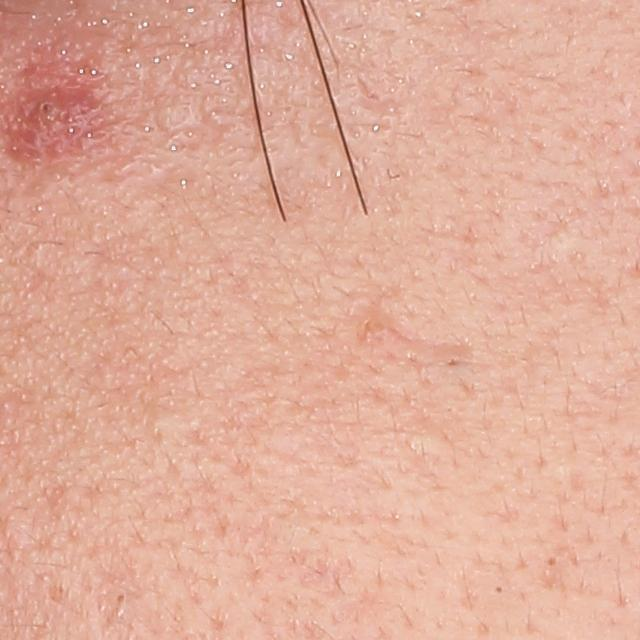comedo: (140, 403, 184, 440), (537, 551, 563, 576), (114, 590, 128, 603)
